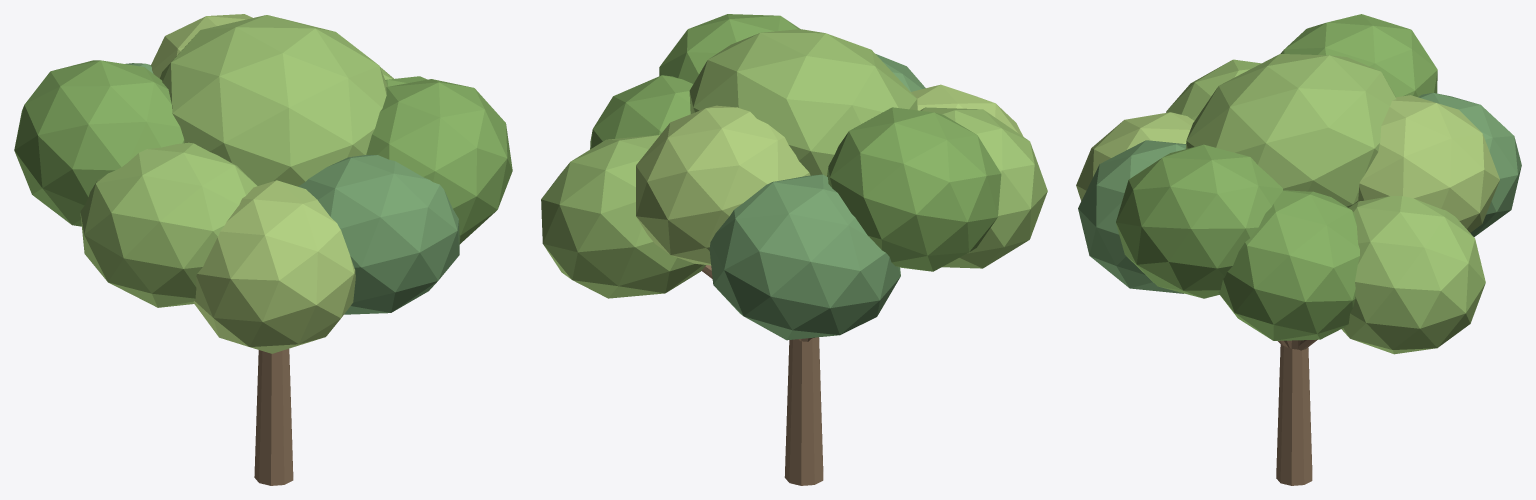
File: SIMUS_Zelkova.glb
The picture shows the model from 3 angles, left to right: view 1: azimuth 30°, elevation 25°; view 2: azimuth 150°, elevation 25°; view 3: azimuth 270°, elevation 25°; orthographic projection. The views are drawn at different scales.
Parts seen in each view (by area): view 1: Zelkova Leaf green 1, Zelkova Leaf green 0, Zelkova Leaf green 2, Zelkova Leaf green 3, Zelkova Warm bark; view 2: Zelkova Leaf green 1, Zelkova Leaf green 0, Zelkova Leaf green 3, Zelkova Leaf green 2, Zelkova Warm bark; view 3: Zelkova Leaf green 1, Zelkova Leaf green 0, Zelkova Leaf green 2, Zelkova Leaf green 3, Zelkova Warm bark.
Boxes of the visible parts, x1,y1,x2,y2 form: Zelkova Leaf green 1: [80, 15, 393, 307]; Zelkova Leaf green 0: [14, 60, 512, 244]; Zelkova Leaf green 2: [151, 14, 355, 353]; Zelkova Leaf green 3: [126, 63, 459, 314]; Zelkova Warm bark: [254, 348, 293, 485]; Zelkova Leaf green 1: [541, 29, 1047, 298]; Zelkova Leaf green 0: [590, 14, 1001, 271]; Zelkova Leaf green 3: [709, 54, 925, 340]; Zelkova Leaf green 2: [636, 84, 1023, 265]; Zelkova Warm bark: [702, 265, 823, 485]; Zelkova Leaf green 1: [1166, 54, 1485, 354]; Zelkova Leaf green 0: [1116, 14, 1437, 340]; Zelkova Leaf green 2: [1076, 95, 1499, 232]; Zelkova Leaf green 3: [1078, 93, 1521, 293]; Zelkova Warm bark: [1276, 339, 1317, 485].
Bounding box in the file's own units: 5.61 × 5.6 × 5.47.
